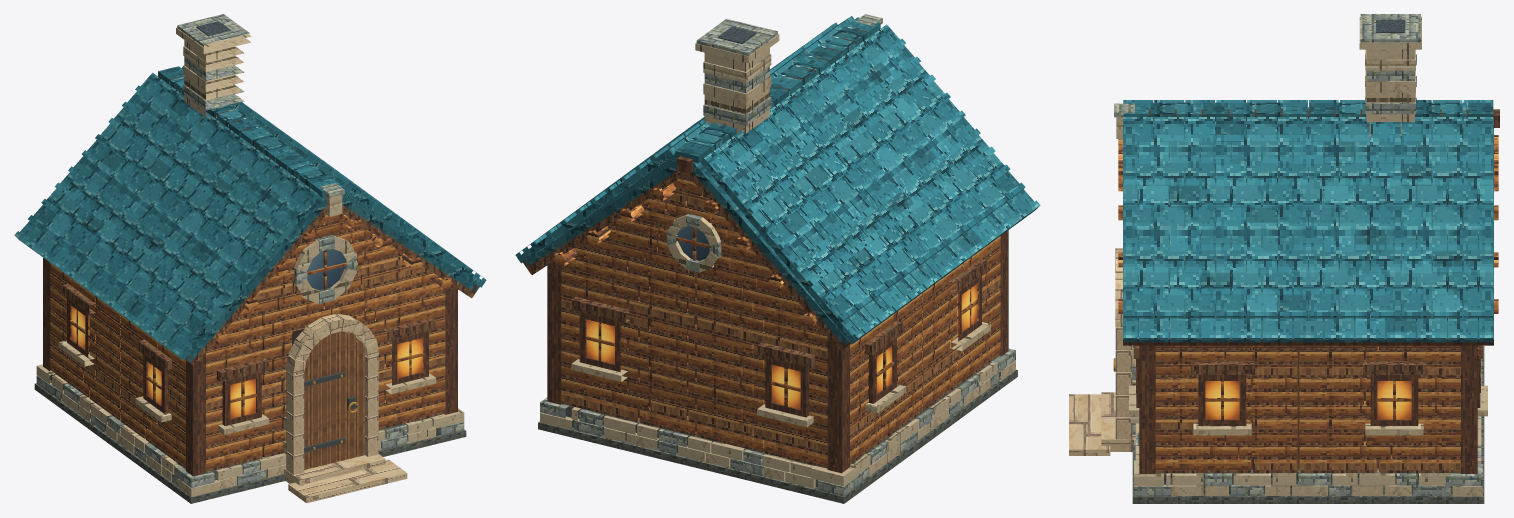
3 views of the same model, side by side, from view 1: azimuth 30°, elevation 25°; view 2: azimuth 150°, elevation 25°; view 3: azimuth 270°, elevation 25° (orthographic). The views are drawn at different scales.
Visible parts, largest first — view 1: teal_geometry, teal_light_geometry, oak_geometry, oak_light_geometry, wood_geometry, stone_warm_geometry, teal_dark_geometry, wood_dark_geometry, stone_light_geometry, stone_dark_geometry, window_glow_geometry, wood_light_geometry (+10 smaller); view 2: teal_geometry, oak_geometry, teal_light_geometry, oak_light_geometry, wood_geometry, stone_warm_geometry, teal_dark_geometry, wood_dark_geometry, stone_light_geometry, stone_dark_geometry, wood_light_geometry, window_glow_geometry (+1 smaller); view 3: teal_geometry, teal_light_geometry, oak_geometry, oak_light_geometry, teal_dark_geometry, stone_warm_geometry, wood_geometry, wood_dark_geometry, stone_light_geometry, stone_dark_geometry, wood_light_geometry, window_glow_geometry (+2 smaller).
Part boxes in pixels (left/top/right/bottom): teal_geometry: left=14, top=66, right=484, bottom=359; teal_light_geometry: left=21, top=72, right=486, bottom=359; oak_geometry: left=50, top=213, right=445, bottom=469; oak_light_geometry: left=50, top=214, right=452, bottom=463; wood_geometry: left=50, top=203, right=475, bottom=471; stone_warm_geometry: left=36, top=27, right=464, bottom=496; teal_dark_geometry: left=26, top=66, right=479, bottom=362; wood_dark_geometry: left=43, top=76, right=479, bottom=476; stone_light_geometry: left=36, top=14, right=464, bottom=487; stone_dark_geometry: left=34, top=44, right=466, bottom=503; window_glow_geometry: left=71, top=306, right=422, bottom=418; wood_light_geometry: left=50, top=255, right=445, bottom=422; teal_geometry: left=517, top=16, right=1034, bottom=344; oak_geometry: left=561, top=174, right=1000, bottom=461; teal_light_geometry: left=515, top=33, right=1040, bottom=338; oak_light_geometry: left=553, top=178, right=1000, bottom=465; wood_geometry: left=527, top=171, right=1000, bottom=468; stone_warm_geometry: left=540, top=34, right=1015, bottom=488; teal_dark_geometry: left=523, top=27, right=1026, bottom=346; wood_dark_geometry: left=523, top=28, right=1008, bottom=473; stone_light_geometry: left=540, top=14, right=1015, bottom=496; stone_dark_geometry: left=538, top=59, right=1017, bottom=503; wood_light_geometry: left=561, top=190, right=1000, bottom=452; window_glow_geometry: left=586, top=284, right=977, bottom=409; teal_geometry: left=1123, top=100, right=1493, bottom=342; teal_light_geometry: left=1124, top=100, right=1493, bottom=342; oak_geometry: left=1136, top=345, right=1480, bottom=472; oak_light_geometry: left=1118, top=135, right=1498, bottom=463; teal_dark_geometry: left=1123, top=100, right=1493, bottom=341; stone_warm_geometry: left=1116, top=16, right=1487, bottom=496; wood_geometry: left=1133, top=345, right=1482, bottom=472; wood_dark_geometry: left=1123, top=109, right=1499, bottom=473; stone_light_geometry: left=1114, top=14, right=1482, bottom=496; stone_dark_geometry: left=1132, top=49, right=1484, bottom=503; wood_light_geometry: left=1155, top=364, right=1460, bottom=472; window_glow_geometry: left=1205, top=381, right=1411, bottom=419.
Bounding box in the file's own units: 5.36 × 5.94 × 5.76.
18 materials, 17 textured.
